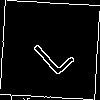L: (25, 25, 76, 78)
